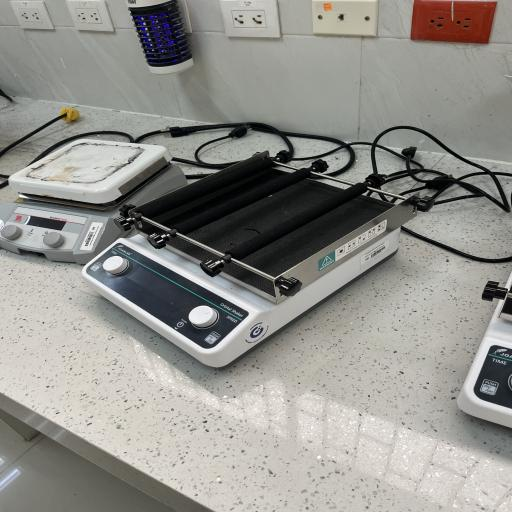Agitador_Orbital_DLAB: (73, 150, 419, 374)
